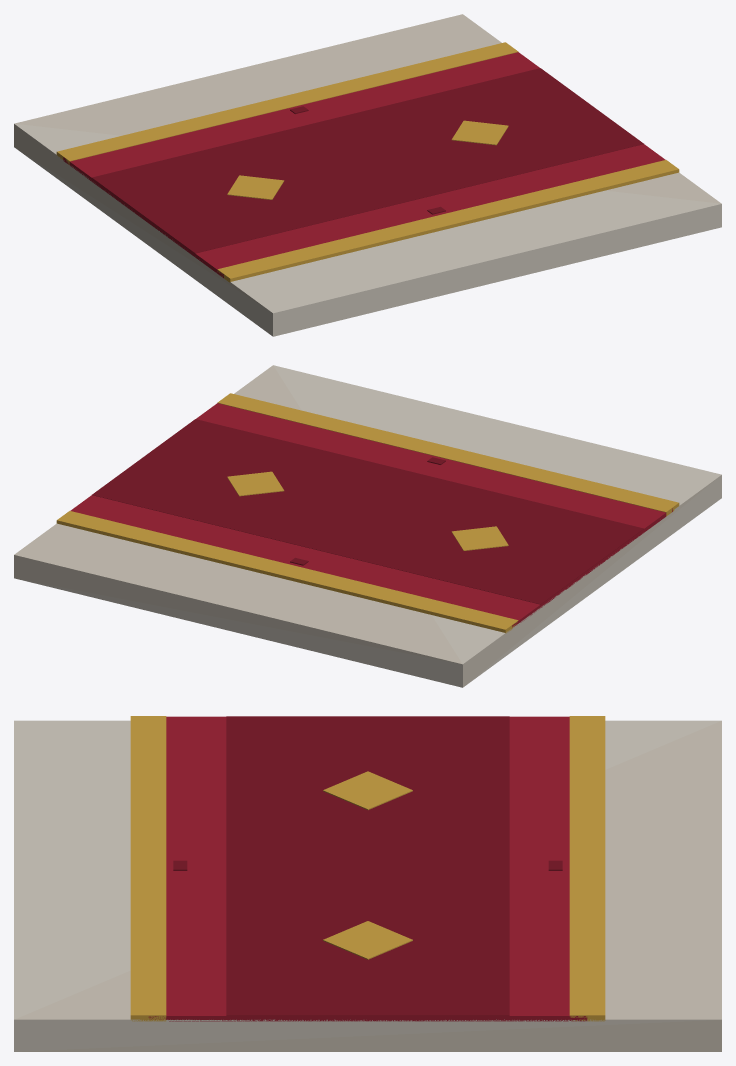
Rendered from kit-paris-floor-2.glb.
3 views of the same model, one above another, from view 1: azimuth 30°, elevation 25°; view 2: azimuth 150°, elevation 25°; view 3: azimuth 270°, elevation 25° (orthographic). The views are drawn at different scales.
Parts seen in each view (by area): view 1: kit-paris-floor-2; view 2: kit-paris-floor-2; view 3: kit-paris-floor-2.
Part boxes in pixels (x1,y1,x2,y2): kit-paris-floor-2: (14, 14, 721, 336); kit-paris-floor-2: (14, 365, 721, 687); kit-paris-floor-2: (14, 716, 721, 1051).
Bounding box in the file's own units: 2 × 0.116 × 2.
